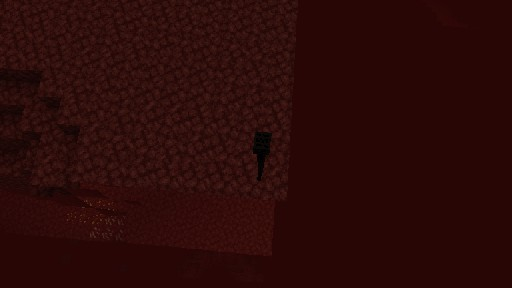enderman: (252, 130, 271, 180)
